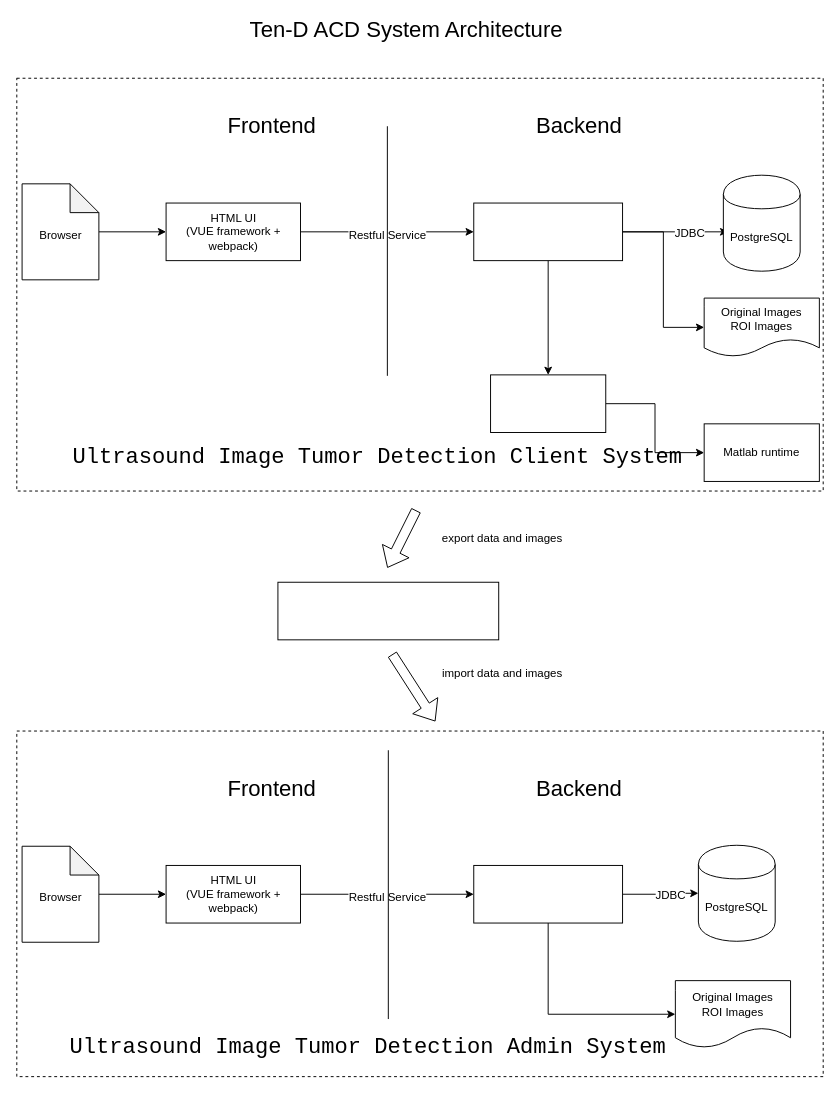
This 840x1099 diagram has some shape labels left out. The shapes that lost their labels are listed below. From the top down, each one's box as (x1, y1, x2, y2) in pixels, then its label:
(473, 202, 623, 261): com.tend.acd.backend.jar (Spring Boot 2.0)
(490, 374, 606, 432): Image Recongnition.jar
(277, 581, 499, 640): Multi-tenant Sync agent com.tend.acd.exporter.jar
(473, 864, 623, 923): com.tend.acd.server.jar (Spring Boot 2.0)
